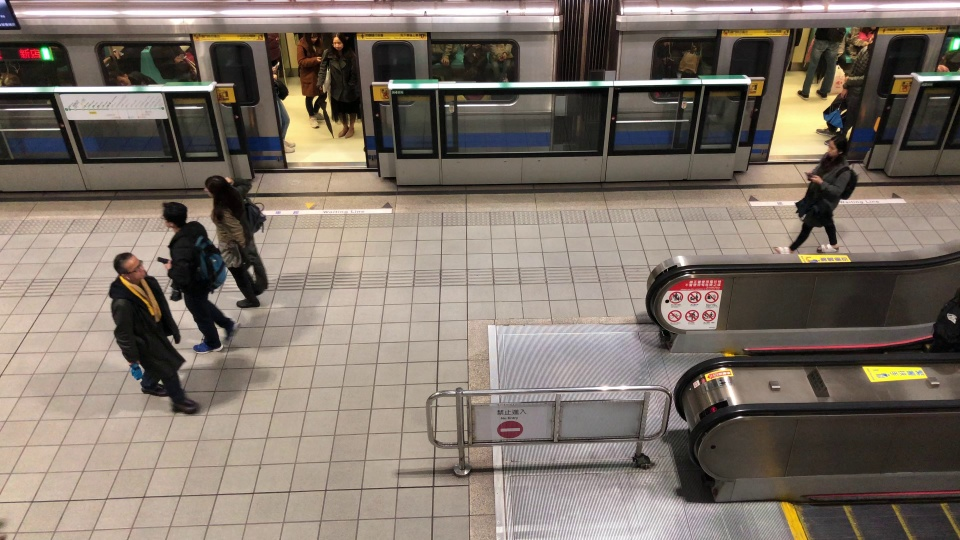person_head: (207, 179, 253, 235), (109, 250, 149, 288), (156, 201, 191, 238), (939, 291, 960, 326), (823, 133, 846, 159), (306, 32, 321, 48), (264, 56, 278, 73), (330, 36, 342, 54), (115, 74, 131, 85), (867, 34, 877, 45)
person_vbox: (93, 251, 199, 423), (153, 200, 240, 357), (773, 134, 859, 254), (210, 179, 269, 301), (814, 33, 860, 145), (319, 36, 364, 141), (913, 285, 960, 363), (291, 33, 327, 131), (263, 55, 296, 155), (794, 28, 838, 101), (145, 44, 202, 80), (113, 71, 156, 86)
